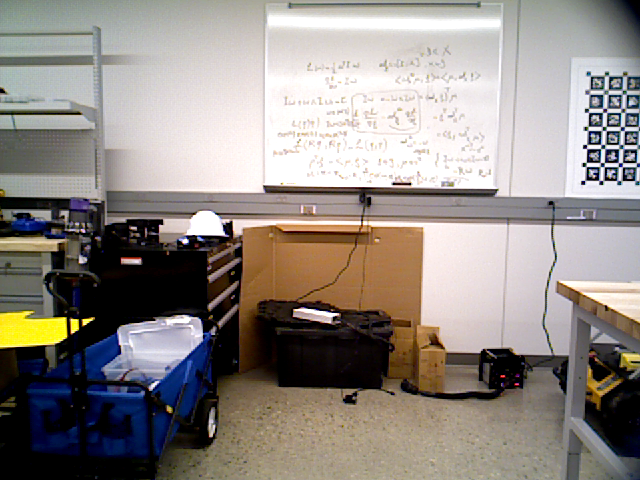painting4: (569, 62, 640, 188)
